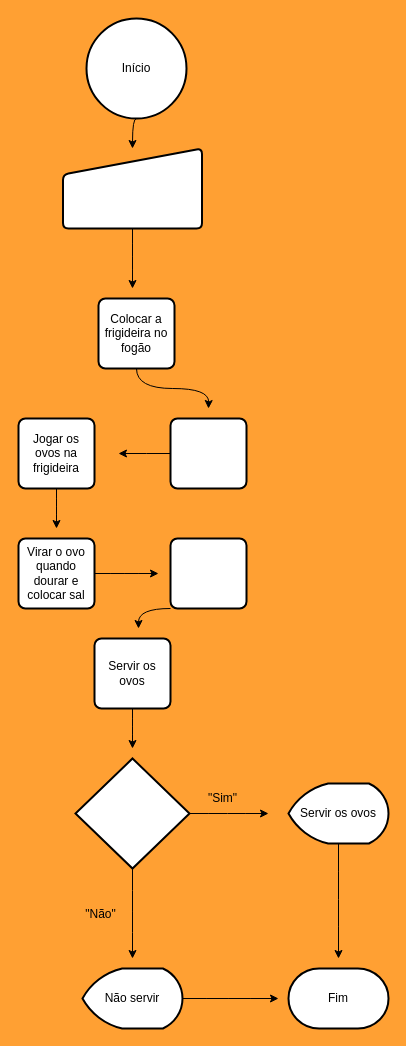
Image size: 406x1046. Some labels were removed from this diagram. The shapes that lost their labels are listed below. From the top down, each one's centre as x and y in pixels, then its label:
At [132,188]: "fogão, ovo, frigideira, azeite, sal, servir".
At [208,453]: "Ligar o fogão e jogar azeite na frigideira".
At [208,573]: "Desligar o fogão".
At [132,813]: "O ovo está frito?".
